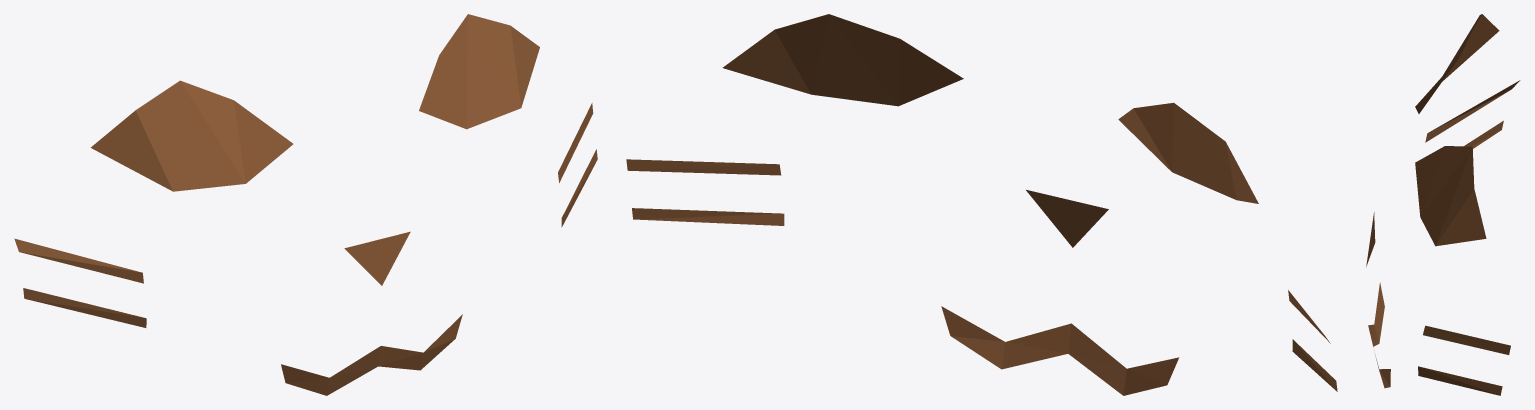
Rendered from EVHalloween_Decor_JackOLanternCat_Glow7.fbx.
3 views of the same model, side by side, from view 1: azimuth 30°, elevation 25°; view 2: azimuth 150°, elevation 25°; view 3: azimuth 270°, elevation 25° (orthographic). The views are drawn at different scales.
Parts seen in each view (by area): view 1: EVHalloween_Decor_PumpkinOrange; view 2: EVHalloween_Decor_PumpkinOrange; view 3: EVHalloween_Decor_PumpkinOrange.
Boxes of the visible parts, left/top/right/bottom form: EVHalloween_Decor_PumpkinOrange: left=14, top=14, right=597, bottom=395; EVHalloween_Decor_PumpkinOrange: left=626, top=14, right=1337, bottom=395; EVHalloween_Decor_PumpkinOrange: left=1366, top=14, right=1520, bottom=395.
Size of the model in its own units: 23.8 by 11.9 by 5.86.
